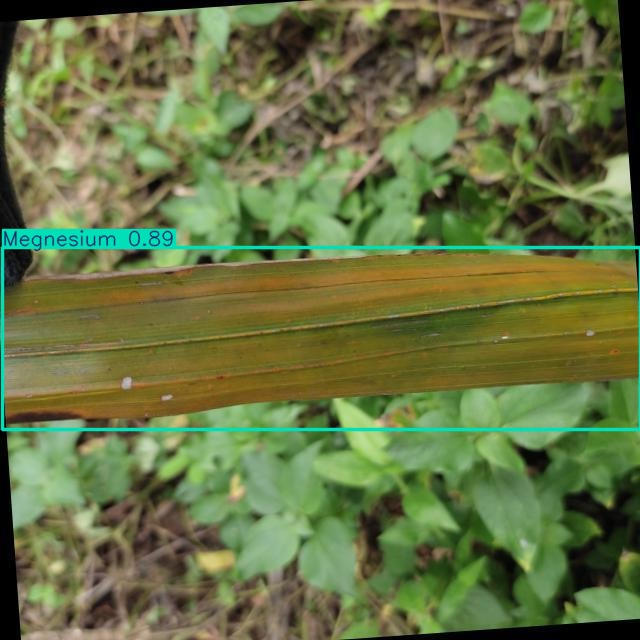Megnesium: (2, 248, 640, 429)
